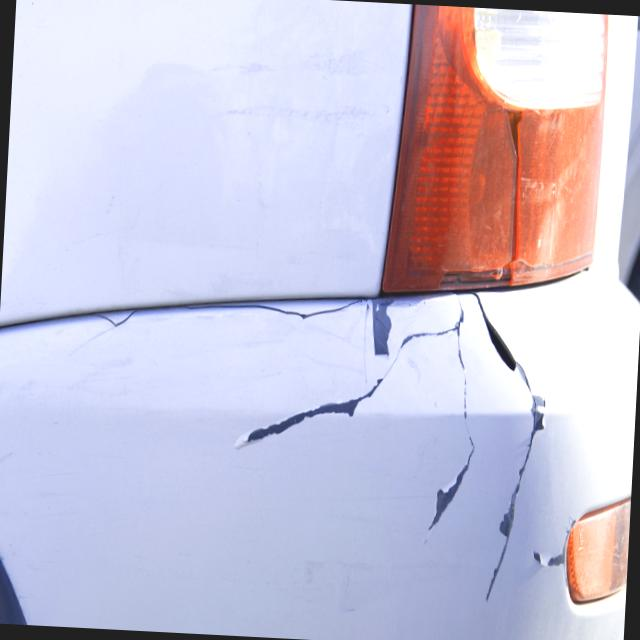Dechirure: (235, 280, 469, 467), (448, 279, 552, 636), (424, 280, 487, 551)
Phare abime: (478, 75, 546, 311)
Rayure: (534, 514, 579, 582)
